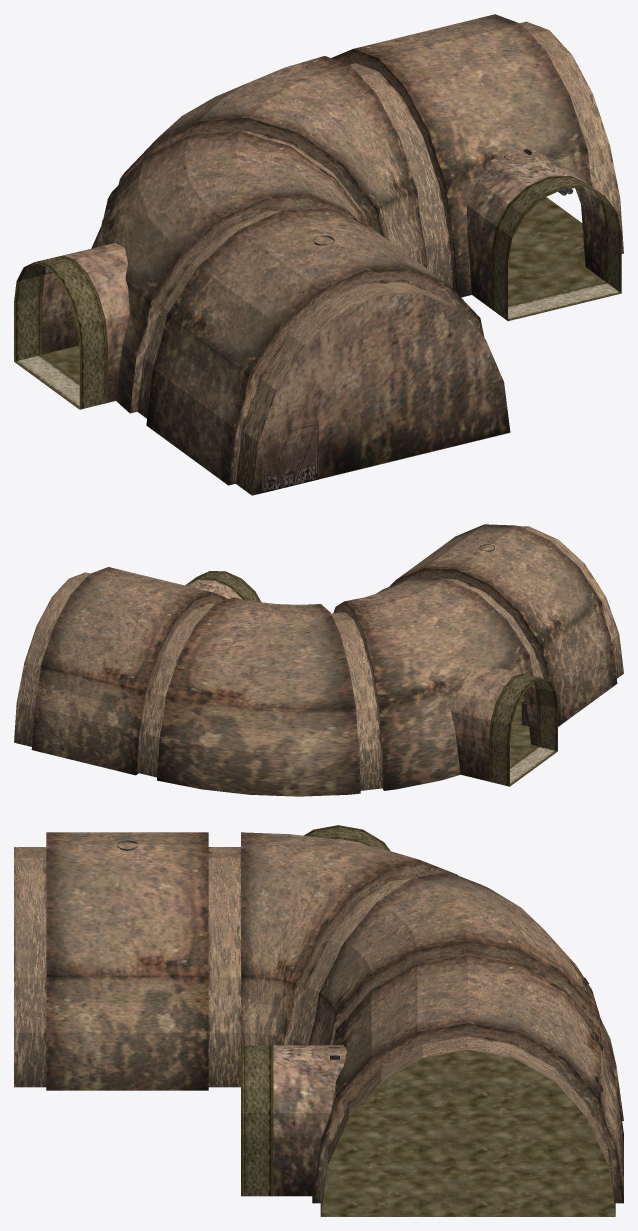
The model's file is thm_tato_jabbas_palace_r23_garage2_mesh_r23.fbx.
The picture shows the model from 3 angles, top to bottom: view 1: azimuth 30°, elevation 25°; view 2: azimuth 150°, elevation 25°; view 3: azimuth 270°, elevation 25°; orthographic projection. The views are drawn at different scales.
Parts seen in each view (by area): view 1: mesh_node; view 2: mesh_node; view 3: mesh_node.
Part boxes in pixels (bbox=[...]): mesh_node: bbox=[14, 14, 623, 495]; mesh_node: bbox=[14, 524, 623, 796]; mesh_node: bbox=[14, 825, 623, 1216].
Size of the model in its own units: 20 by 6.13 by 18.8.
